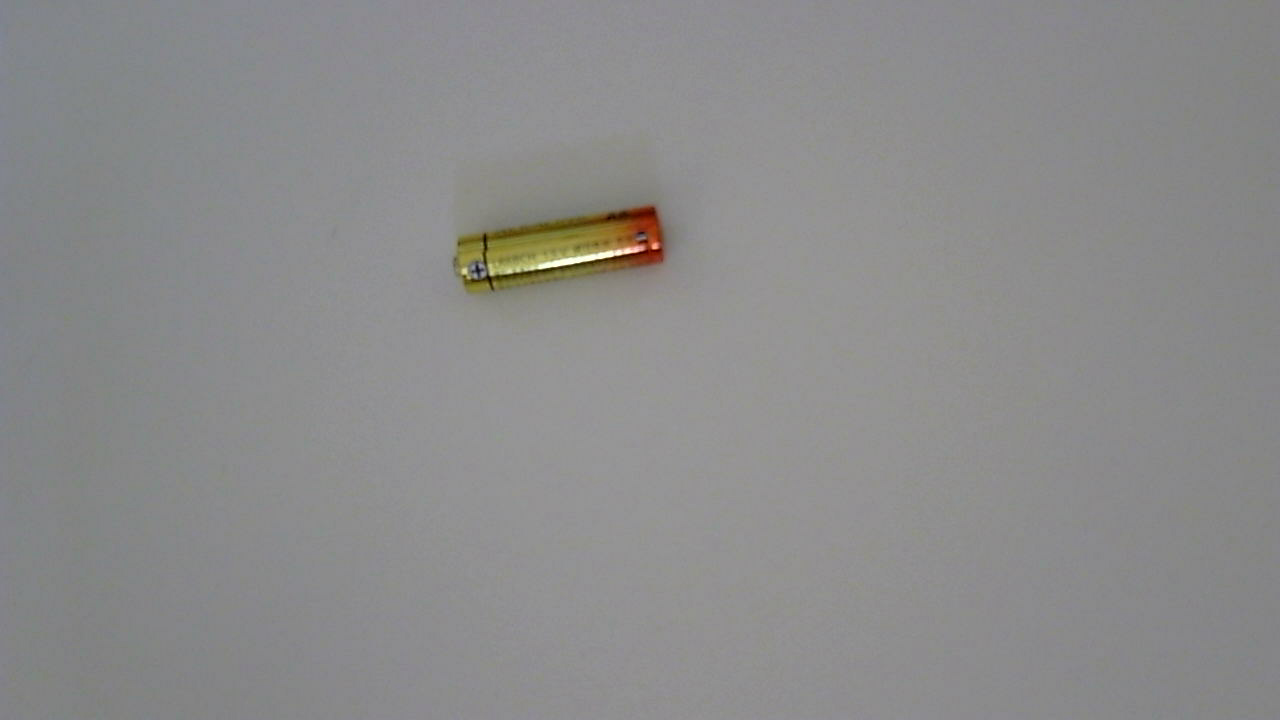Battery: (452, 206, 677, 308)
